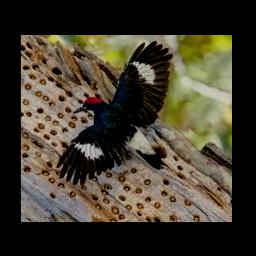Woodpecker: (56, 41, 173, 185)
